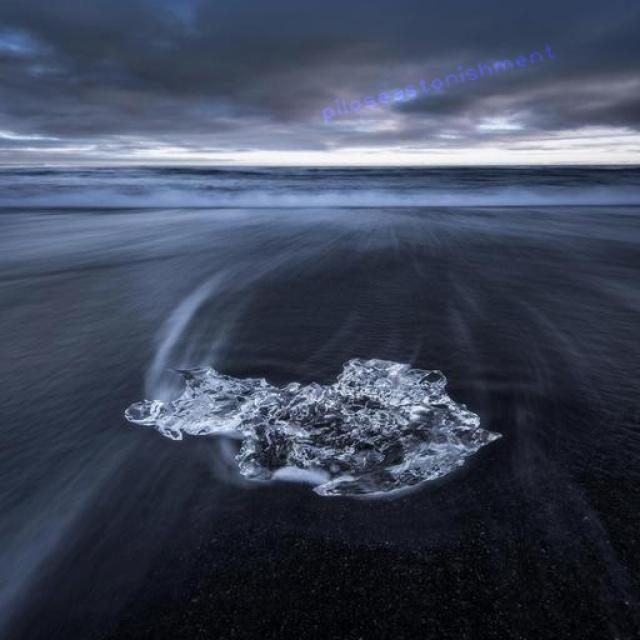watermark: (316, 41, 556, 123)
